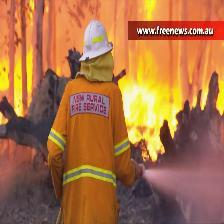fire: (106, 2, 220, 149), (1, 2, 65, 107)
